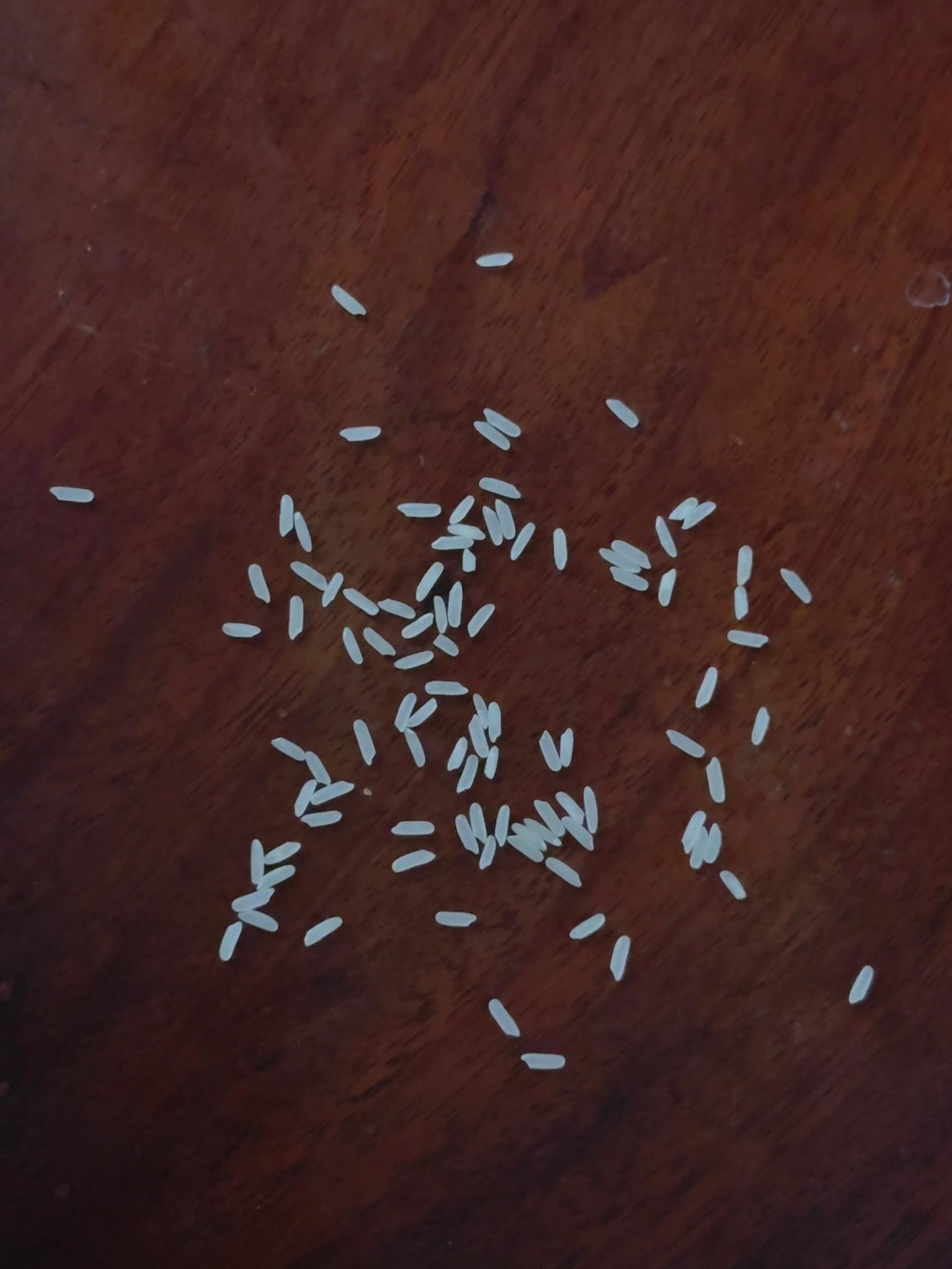Rice-th-y-nh: (487, 999, 520, 1037), (611, 539, 652, 569), (533, 799, 565, 837), (303, 916, 342, 947), (414, 562, 444, 601), (780, 568, 813, 603), (561, 816, 594, 851), (545, 857, 582, 888), (474, 421, 512, 451), (291, 561, 329, 591), (667, 729, 706, 758), (483, 408, 522, 437), (352, 719, 377, 764), (506, 834, 544, 863), (231, 888, 275, 913), (331, 285, 366, 316), (311, 781, 354, 806), (598, 548, 641, 573), (524, 817, 561, 846), (454, 814, 480, 855), (467, 714, 491, 758), (681, 811, 706, 852), (480, 505, 505, 546), (555, 790, 585, 824), (681, 501, 716, 530), (391, 849, 435, 872), (609, 566, 649, 591), (218, 921, 243, 961), (509, 523, 536, 560), (466, 604, 496, 637), (606, 398, 639, 428), (688, 827, 711, 870), (246, 839, 267, 886), (695, 667, 719, 708), (654, 517, 678, 558), (538, 731, 562, 772), (257, 865, 296, 890), (570, 913, 606, 940), (407, 698, 438, 729), (849, 966, 874, 1004), (343, 588, 378, 615), (238, 909, 279, 932), (363, 628, 396, 656), (609, 936, 630, 980), (275, 495, 297, 537), (305, 751, 332, 785), (263, 841, 301, 865), (293, 779, 317, 817), (403, 728, 426, 767), (456, 754, 479, 793), (248, 564, 271, 603), (582, 786, 601, 833), (479, 477, 521, 498), (495, 499, 517, 539), (516, 824, 547, 852), (468, 802, 489, 843), (401, 613, 434, 639), (394, 693, 416, 732), (703, 824, 725, 863), (706, 758, 725, 803), (342, 627, 364, 665), (448, 496, 475, 526), (720, 870, 747, 900), (446, 582, 464, 627), (521, 1052, 566, 1070), (271, 738, 306, 761), (485, 702, 505, 742), (395, 650, 433, 671), (551, 528, 570, 570), (391, 819, 435, 837), (493, 805, 512, 846), (378, 598, 415, 619), (448, 522, 486, 542), (293, 513, 312, 553), (751, 707, 771, 745), (446, 737, 468, 771), (50, 486, 94, 503), (288, 595, 305, 639), (727, 630, 767, 648), (736, 546, 754, 586), (322, 573, 343, 607), (658, 569, 677, 606), (303, 810, 342, 828), (478, 835, 498, 870), (431, 535, 474, 551), (398, 502, 441, 518), (425, 680, 468, 696), (471, 694, 491, 728), (669, 497, 697, 521), (431, 596, 449, 633), (558, 728, 575, 767), (435, 911, 476, 927), (222, 622, 261, 638), (340, 426, 380, 441), (433, 634, 459, 657), (476, 252, 513, 268), (733, 586, 749, 619), (484, 746, 500, 779), (461, 549, 477, 572)
